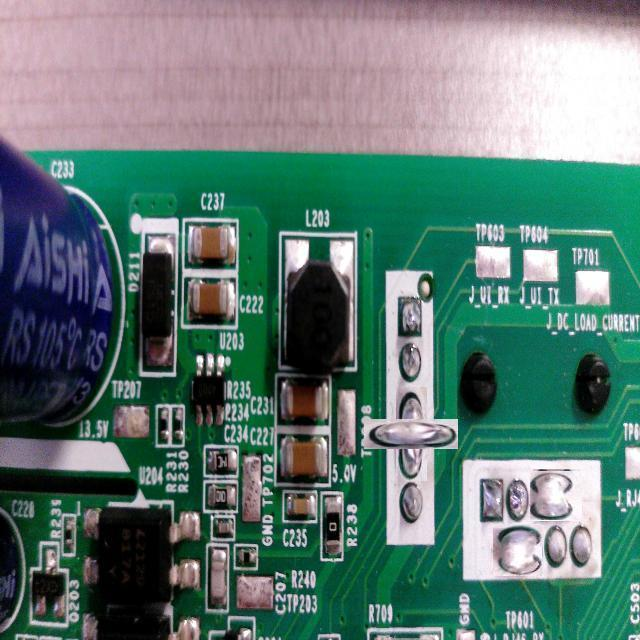Short_circuit: (380, 403, 443, 465), (492, 524, 543, 575), (530, 470, 582, 520)
